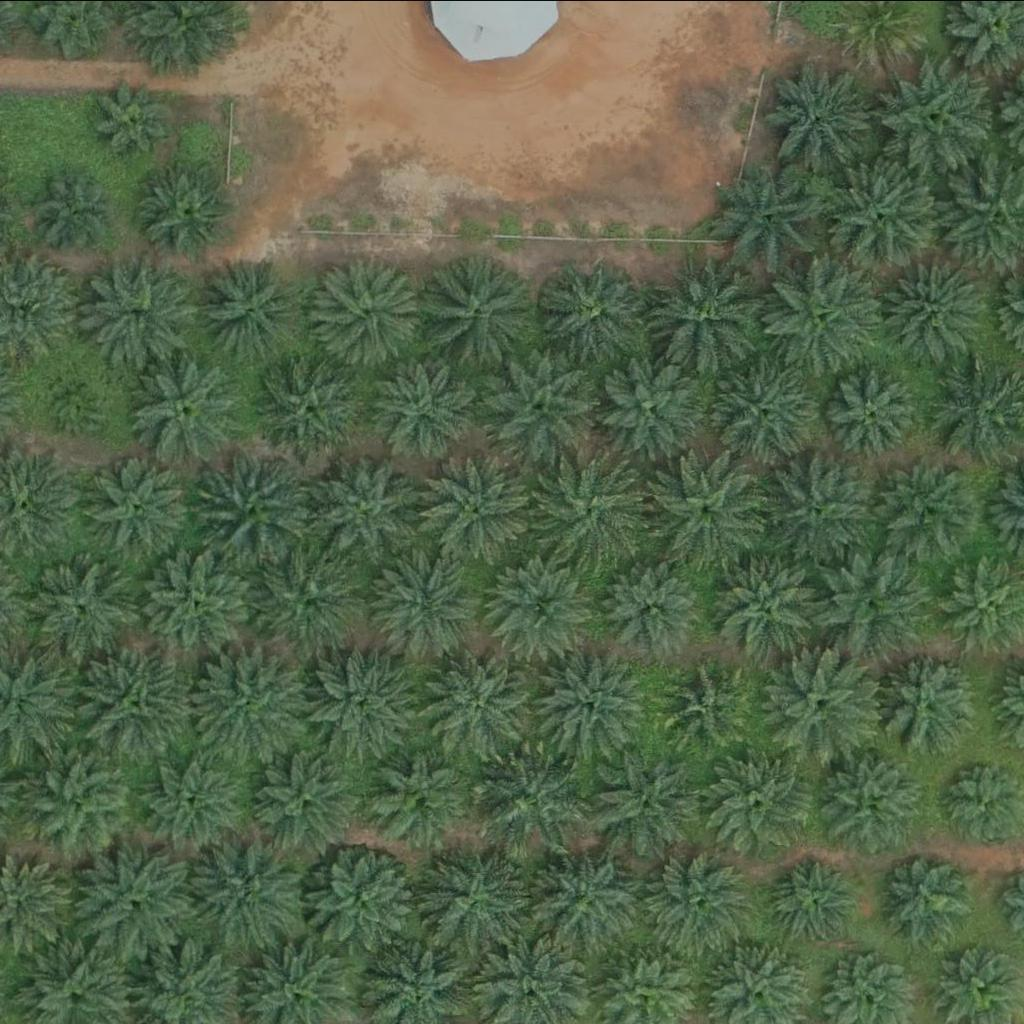Kelapa_Sawit: (20, 748, 134, 861), (78, 643, 192, 756), (196, 643, 310, 756), (252, 544, 366, 657), (367, 543, 481, 656), (763, 55, 877, 168), (879, 57, 993, 170), (714, 157, 828, 270), (309, 647, 422, 760), (427, 640, 540, 753), (486, 547, 599, 660), (130, 351, 243, 464), (252, 354, 365, 467), (87, 255, 200, 368), (191, 251, 304, 364), (314, 251, 427, 364), (426, 256, 539, 369), (653, 452, 766, 565), (758, 453, 871, 566), (707, 550, 820, 663), (530, 841, 643, 954), (142, 543, 256, 655), (307, 451, 421, 563), (424, 452, 538, 564), (485, 349, 599, 461), (820, 158, 934, 270), (653, 255, 767, 367), (79, 841, 192, 953), (191, 835, 304, 947), (303, 841, 416, 953), (416, 846, 529, 958), (246, 742, 359, 854), (476, 745, 589, 857), (24, 549, 137, 661), (200, 451, 313, 563), (533, 457, 646, 569), (767, 258, 880, 370), (712, 354, 825, 466), (814, 545, 927, 657), (763, 647, 876, 759), (702, 748, 815, 860), (597, 352, 710, 464), (530, 648, 643, 760), (589, 744, 702, 856), (369, 745, 470, 845), (89, 453, 190, 553), (884, 259, 985, 359), (879, 451, 980, 551), (878, 652, 979, 752), (822, 749, 923, 849), (644, 852, 745, 952), (147, 750, 247, 850), (372, 358, 472, 458), (545, 259, 645, 359), (143, 165, 232, 253), (664, 661, 753, 749), (831, 370, 919, 457), (768, 860, 856, 947), (887, 854, 975, 941), (607, 561, 695, 648), (43, 169, 119, 244), (94, 83, 169, 158), (46, 365, 109, 427)
